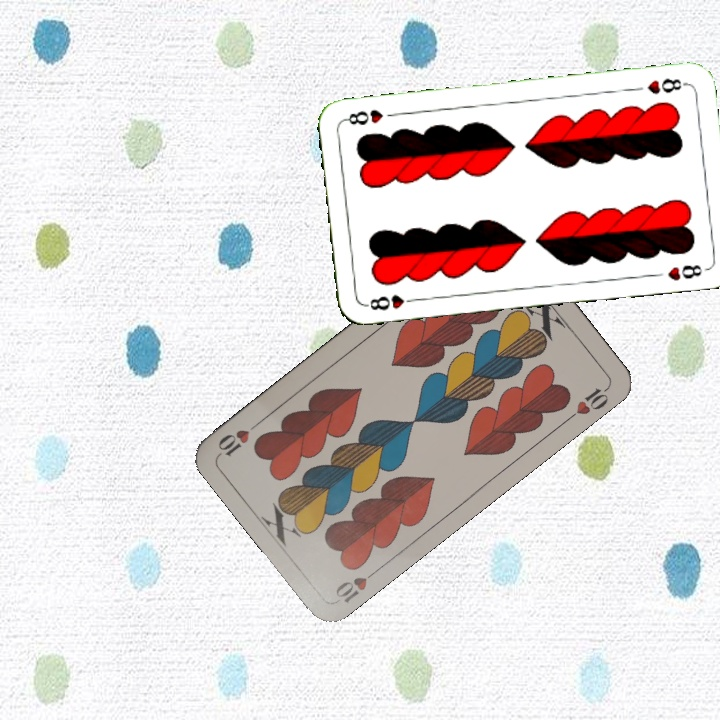H10: (331, 563, 382, 606)
H8: (361, 291, 420, 313), (643, 74, 689, 97)
